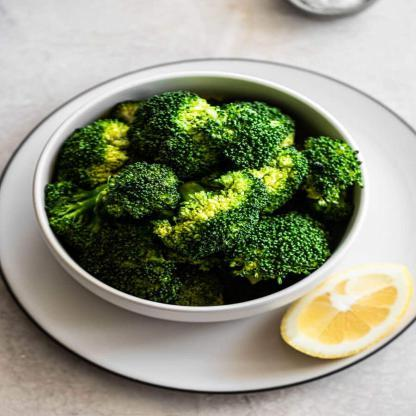broccoli: (43, 86, 368, 306)
